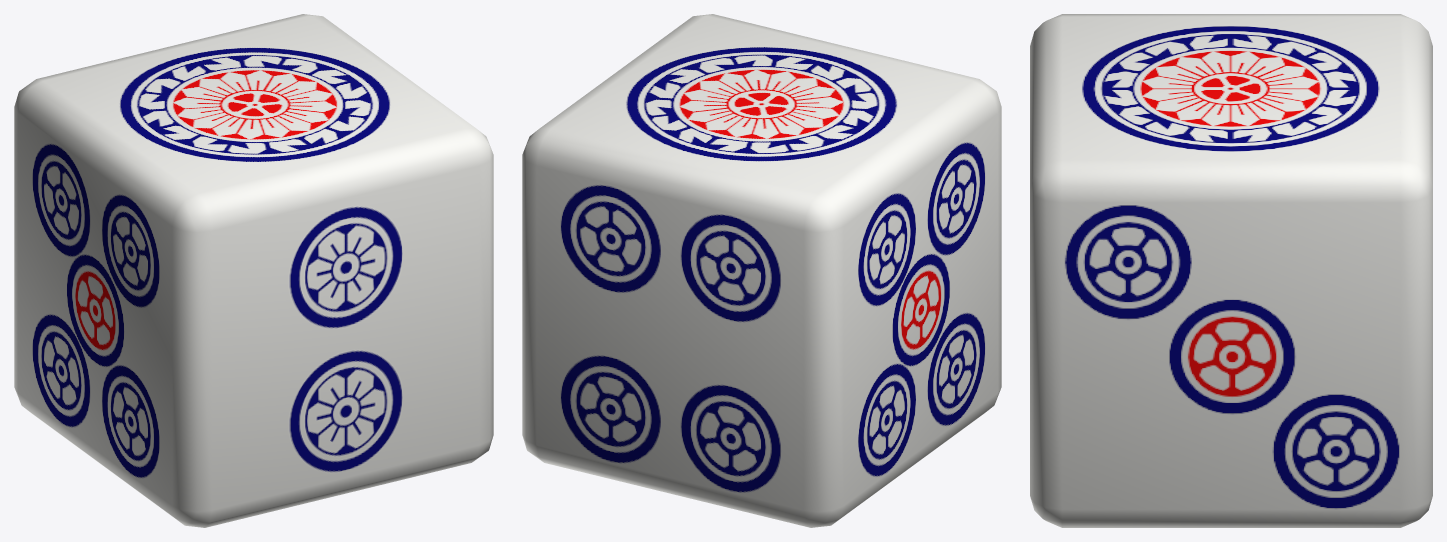
The model's file is dice.fbx.
3 views of the same model, side by side, from view 1: azimuth 30°, elevation 25°; view 2: azimuth 150°, elevation 25°; view 3: azimuth 270°, elevation 25° (orthographic). The views are drawn at different scales.
Visible parts, largest first — view 1: dice; view 2: dice; view 3: dice.
Part boxes in pixels (<box>): dice: <box>14,14,493,527</box>; dice: <box>522,14,1001,527</box>; dice: <box>1030,14,1432,527</box>.
Bounding box in the file's own units: 2.5 × 2.5 × 2.5.
